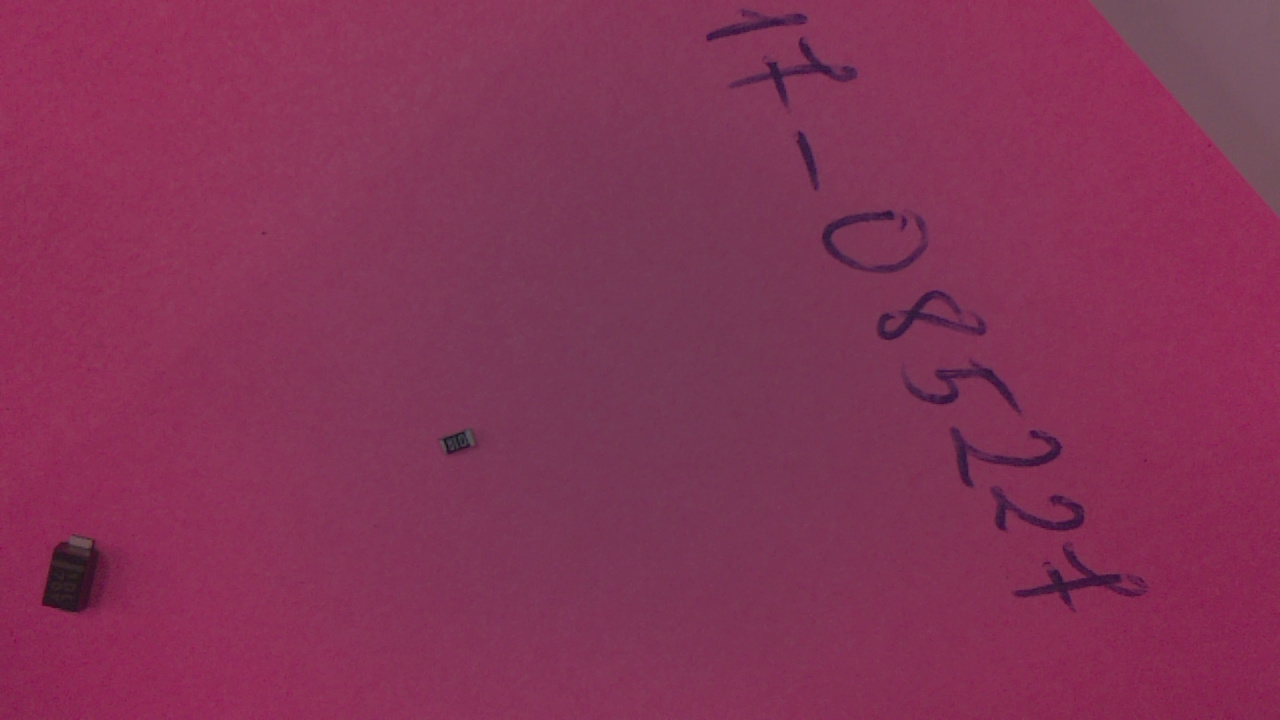Diode: (43, 537, 105, 620)
Resistor: (441, 429, 482, 467)
